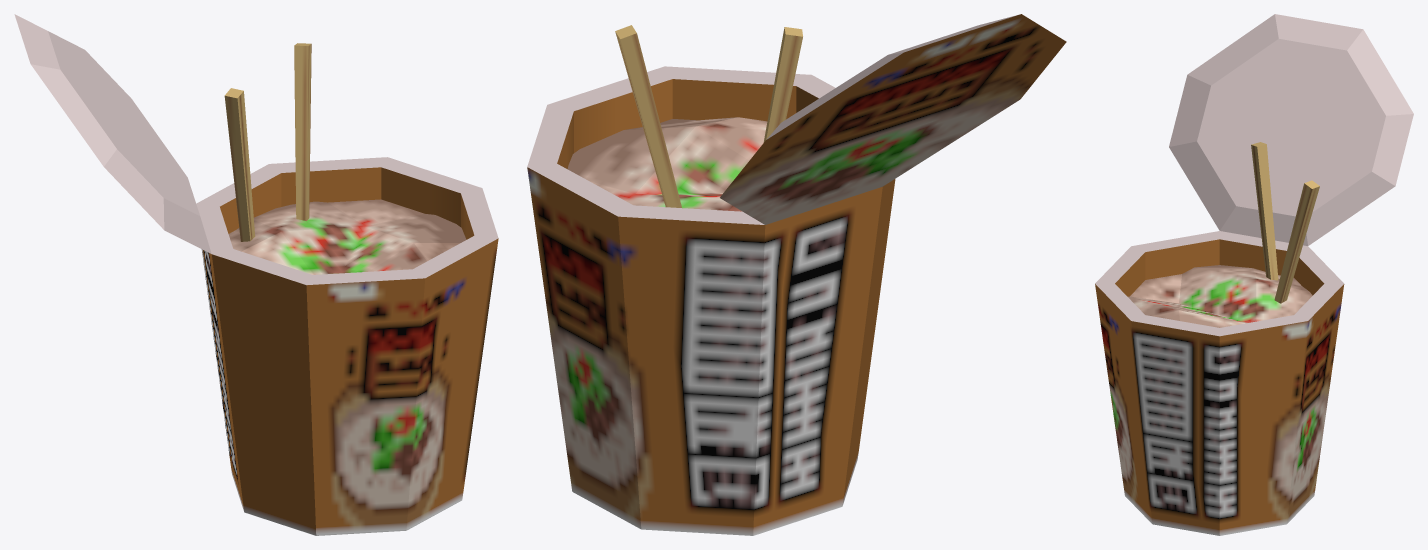
File: ramen.fbx
The picture shows the model from 3 angles, left to right: view 1: azimuth 30°, elevation 25°; view 2: azimuth 150°, elevation 25°; view 3: azimuth 270°, elevation 25°; orthographic projection. The views are drawn at different scales.
Visible parts, largest first — view 1: Cube; view 2: Cube; view 3: Cube.
Boxes of the visible parts, box(x1,y1,x2,y2) form: Cube: box(14, 14, 498, 535); Cube: box(527, 14, 1066, 535); Cube: box(1095, 14, 1413, 535).
Size of the model in its own units: 0.2248 by 0.2402 by 0.1866.
Materials: 1 (1 with a texture image).
